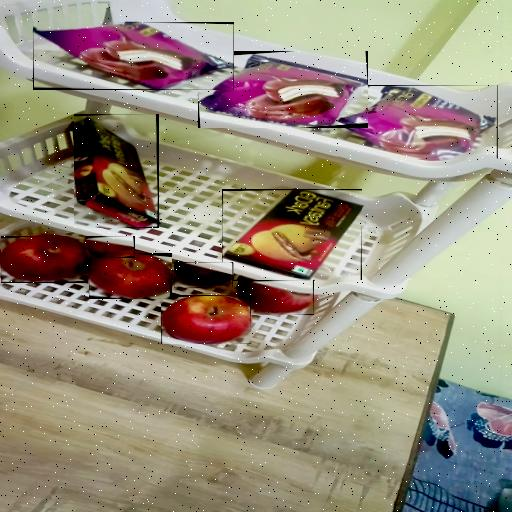Apple: (161, 295, 251, 344), (1, 236, 91, 283), (89, 253, 172, 299), (238, 280, 314, 315), (174, 262, 233, 288), (86, 236, 135, 258)
Choco Fills: (222, 190, 362, 282), (74, 114, 159, 228)
Choco Pie: (33, 22, 234, 90), (198, 51, 368, 128), (337, 86, 498, 160)
